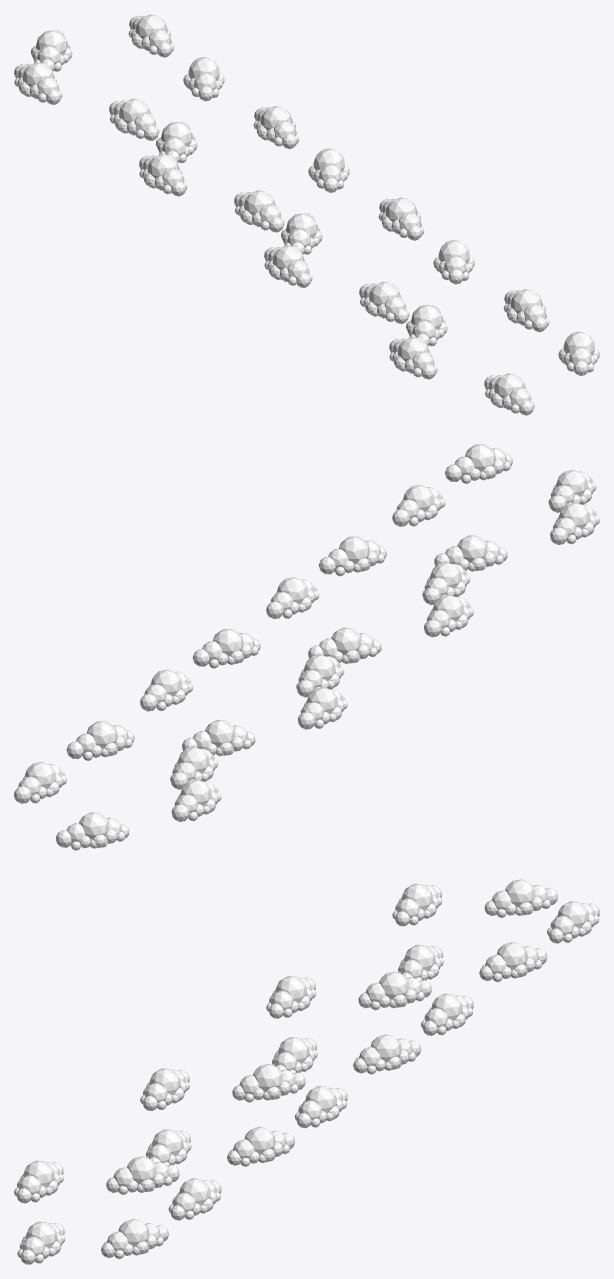
The model's file is clouds.gltf.
3 views of the same model, one above another, from view 1: azimuth 30°, elevation 25°; view 2: azimuth 150°, elevation 25°; view 3: azimuth 330°, elevation 25° (orthographic).
Visible parts, largest first — view 1: Water.003; view 2: Water.003; view 3: Water.003.
Part boxes in pixels (left/top/right/bottom): Water.003: left=14, top=14, right=599, bottom=415; Water.003: left=14, top=444, right=599, bottom=850; Water.003: left=14, top=879, right=599, bottom=1264.
Size of the model in its own units: 158 by 39.36 by 810.
1 material, 1 textured.
